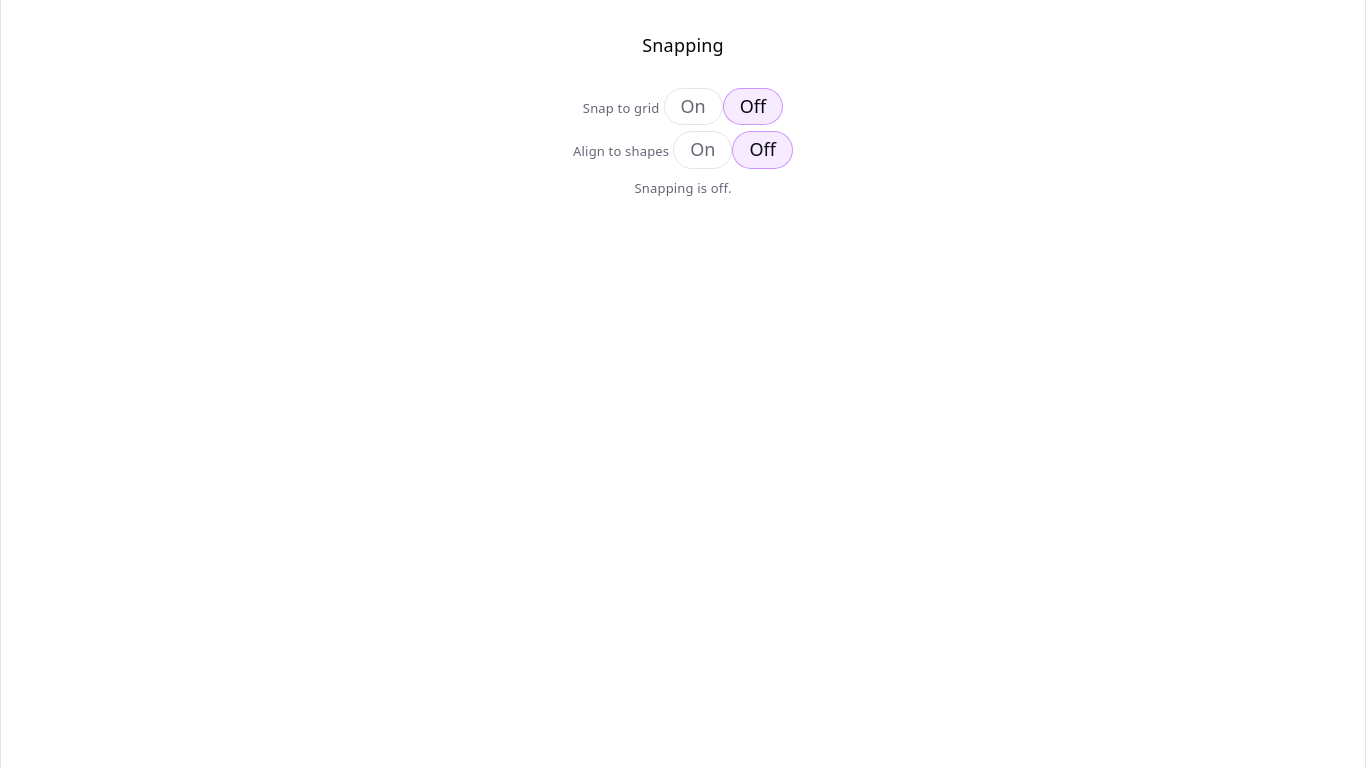
SnapPreferenceControl › turning on grid snap updates aria-checked and the status region, independent of guides
This screenshot has width=1366, height=768.
Click the radio button labelled "On" next to "Snap to grid": (693, 107) x1=664 y1=88 x2=723 y2=125
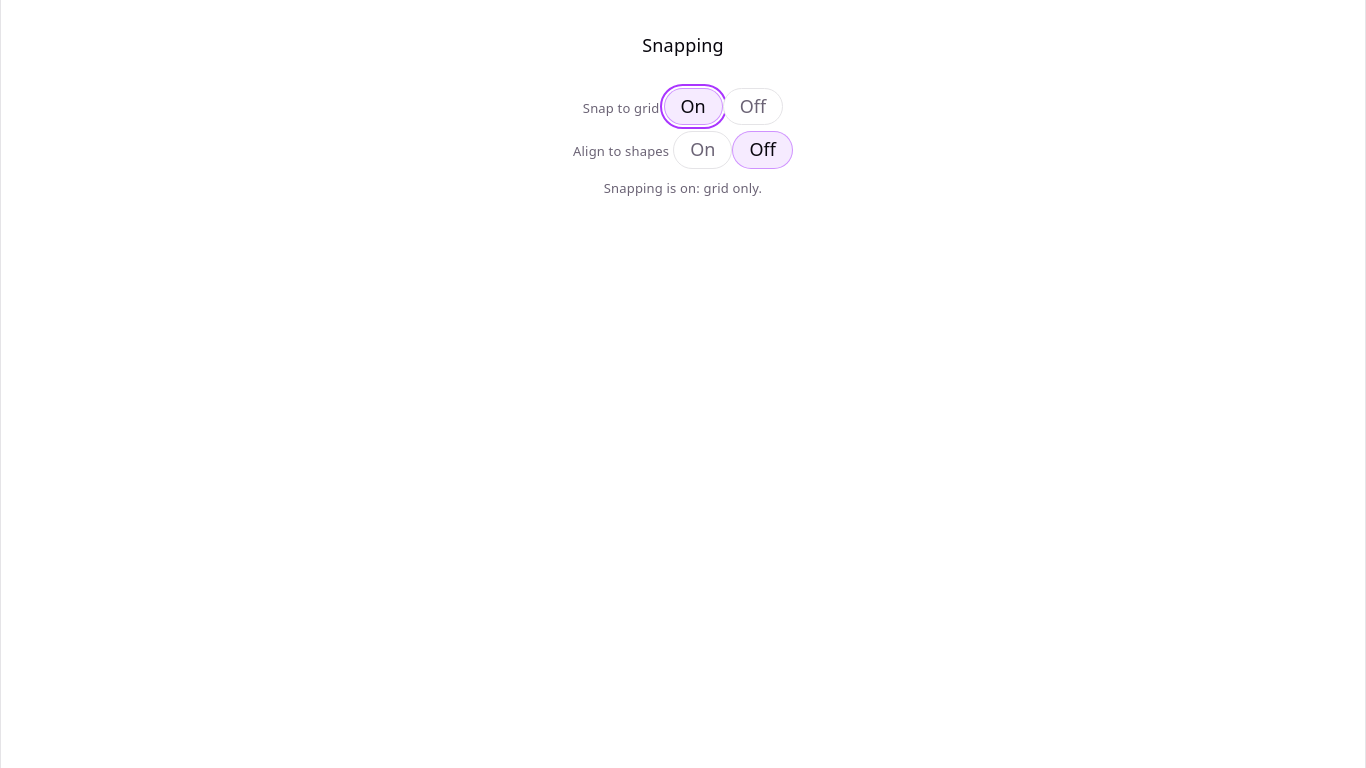
Expected: the message reads "Snapping is on: grid only.", x1=604 y1=179 x2=762 y2=197
